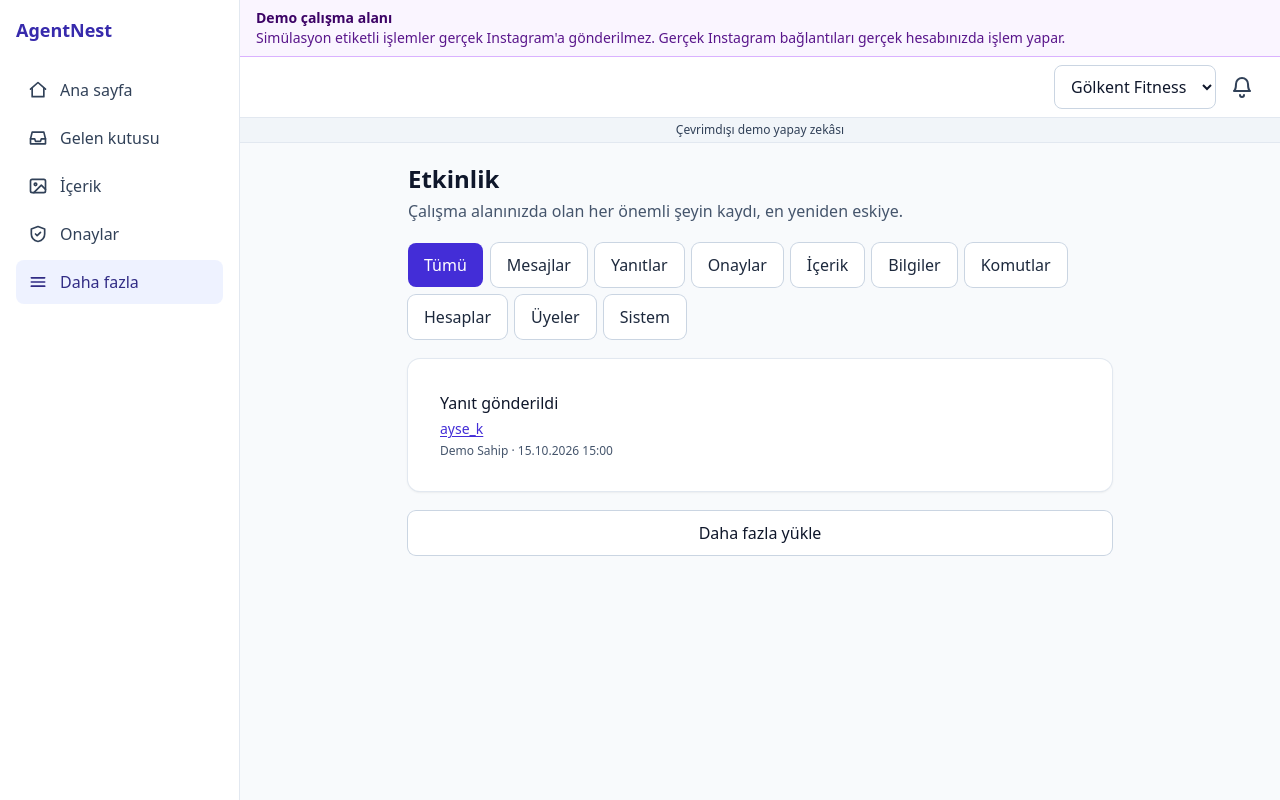
activity feed › loads the next page with the cursor and then stops offering more
Expected: the number of elements with test id "activity-entry" is 1, [440,392,613,459]
Click the button "Daha fazla yükle".
click(760, 533)  # box [408,511,1112,555]
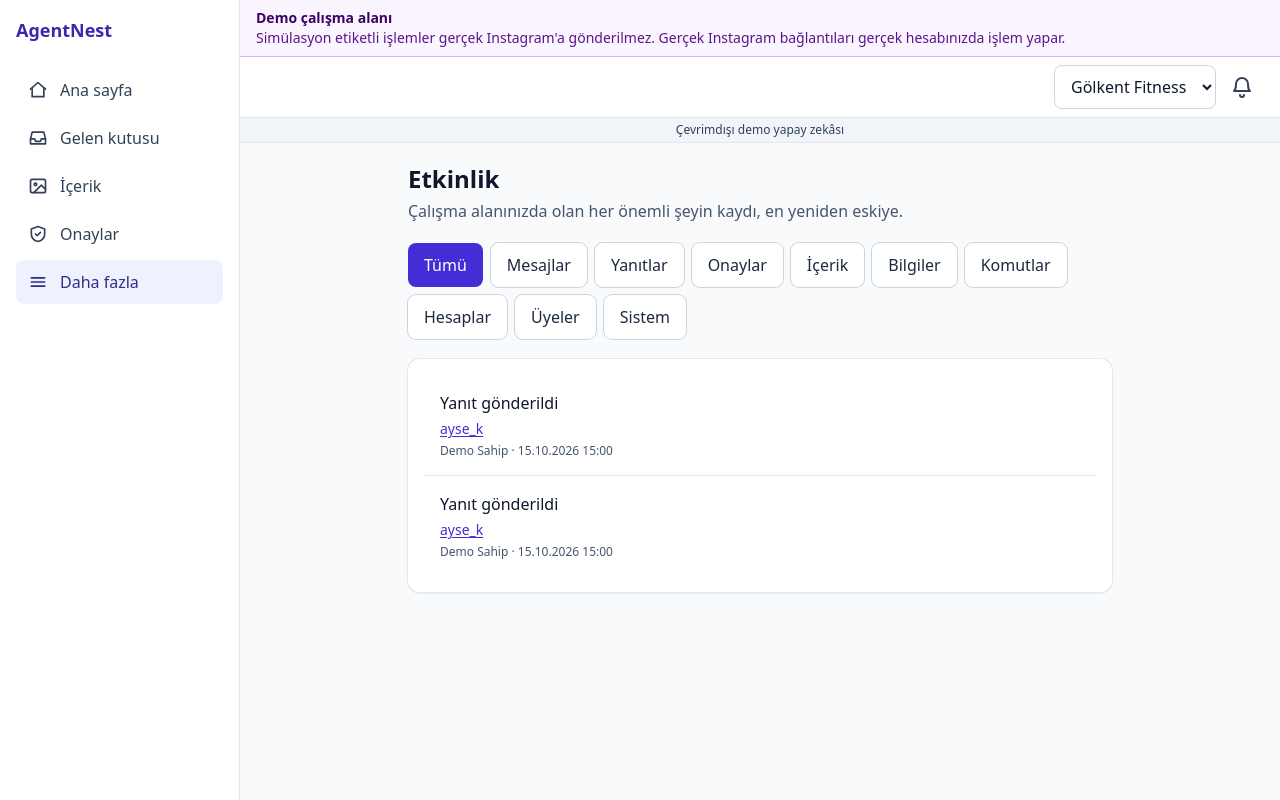
Expected: the number of elements with test id "activity-entry" is 2, [440,392,613,459]; [440,493,613,560]
Expected: the button "Daha fazla yükle" is gone
